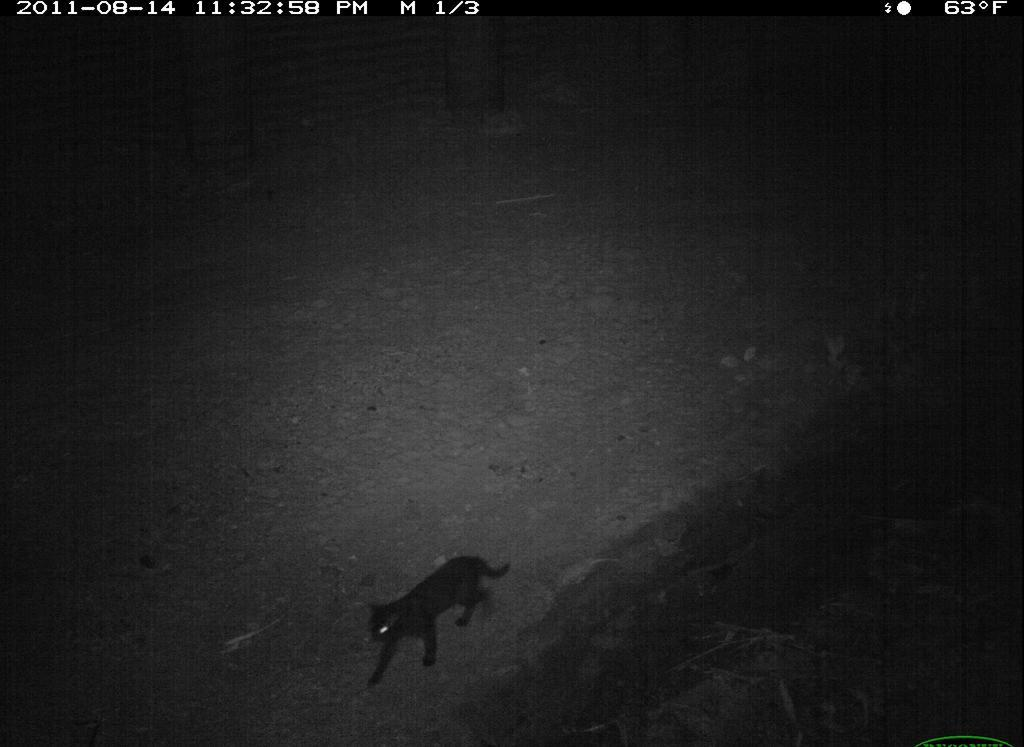cat: (358, 543, 518, 698)
